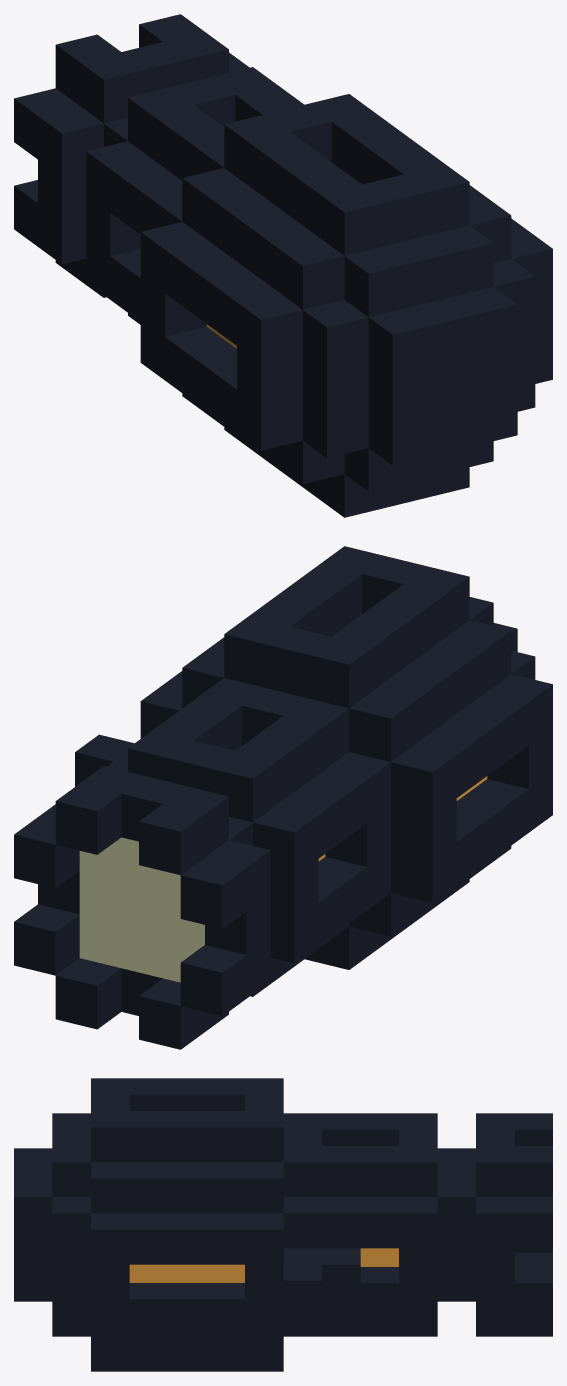
File: RightEngineSmall1.obj
The picture shows the model from 3 angles, top to bottom: view 1: azimuth 30°, elevation 25°; view 2: azimuth 150°, elevation 25°; view 3: azimuth 270°, elevation 25°; orthographic projection. The views are drawn at different scales.
Bounding box in the file's own units: 8 × 7 × 14.
1 material, 1 textured.
